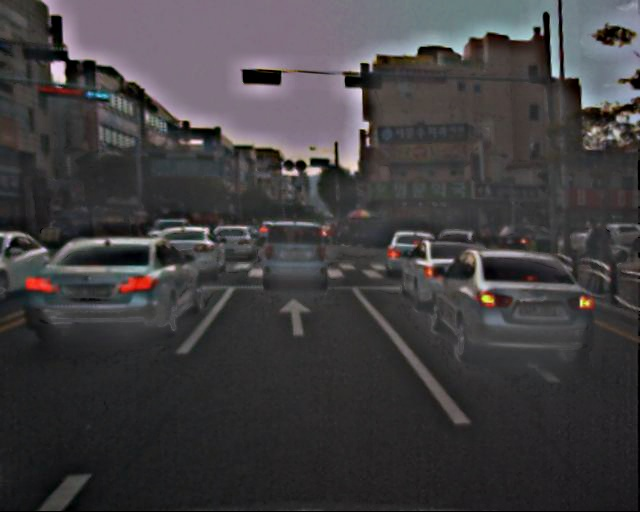person: (578, 217, 607, 287)
